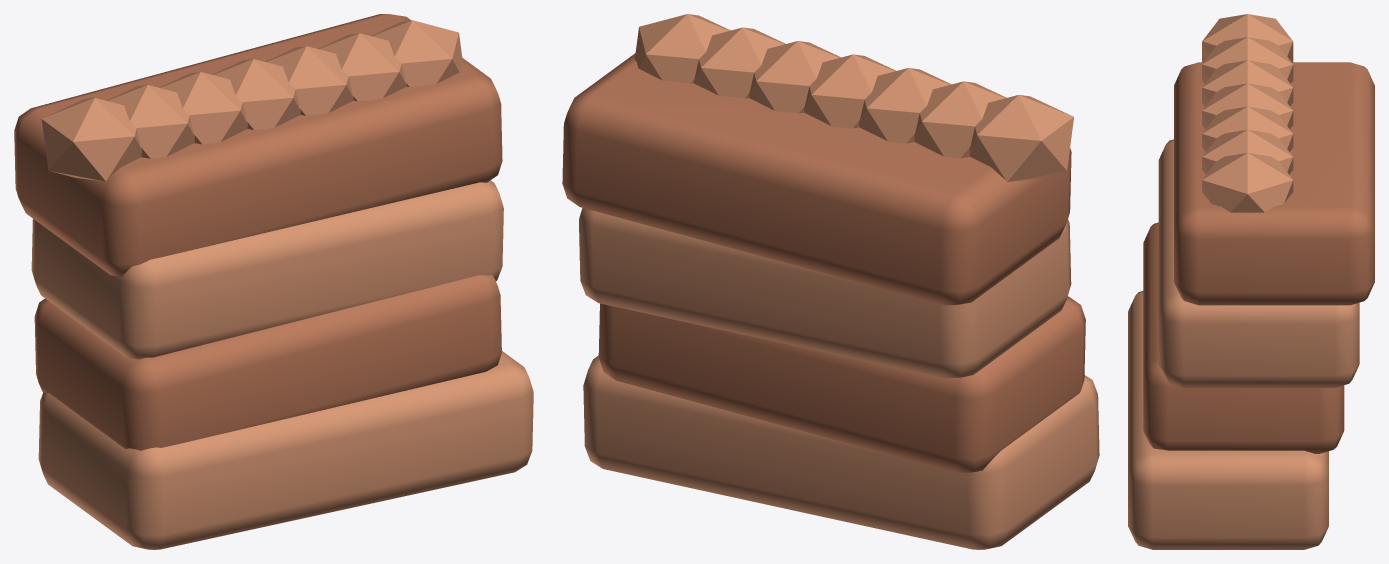
The model's file is Cliff_02.glb.
3 renders of one model, left to right at view 1: azimuth 30°, elevation 25°; view 2: azimuth 150°, elevation 25°; view 3: azimuth 270°, elevation 25°, orthographic. The views are drawn at different scales.
Parts seen in each view (by area): view 1: Sedimentary cliff layer.007, Sedimentary cliff layer.004, Sedimentary cliff layer.005, Sedimentary cliff layer.006, Cliff top rubble.007, Cliff top rubble.013, Cliff top rubble.008, Cliff top rubble.009, Cliff top rubble.010, Cliff top rubble.011, Cliff top rubble.012; view 2: Sedimentary cliff layer.007, Sedimentary cliff layer.004, Sedimentary cliff layer.005, Sedimentary cliff layer.006, Cliff top rubble.007, Cliff top rubble.013, Cliff top rubble.008, Cliff top rubble.009, Cliff top rubble.010, Cliff top rubble.011, Cliff top rubble.012; view 3: Sedimentary cliff layer.007, Sedimentary cliff layer.004, Sedimentary cliff layer.006, Sedimentary cliff layer.005, Cliff top rubble.013, Cliff top rubble.007, Cliff top rubble.008, Cliff top rubble.009, Cliff top rubble.010, Cliff top rubble.011, Cliff top rubble.012.
Boxes of the visible parts, bbox=[...] form: Sedimentary cliff layer.007: bbox=[14, 14, 502, 276]; Sedimentary cliff layer.004: bbox=[38, 351, 533, 549]; Sedimentary cliff layer.005: bbox=[34, 274, 501, 450]; Sedimentary cliff layer.006: bbox=[31, 180, 503, 359]; Cliff top rubble.007: bbox=[41, 97, 141, 181]; Cliff top rubble.013: bbox=[371, 20, 462, 86]; Cliff top rubble.008: bbox=[106, 85, 194, 158]; Cliff top rubble.009: bbox=[159, 72, 247, 144]; Cliff top rubble.010: bbox=[212, 59, 300, 129]; Cliff top rubble.011: bbox=[265, 46, 353, 115]; Cliff top rubble.012: bbox=[318, 33, 406, 101]; Sedimentary cliff layer.007: bbox=[562, 53, 1071, 305]; Sedimentary cliff layer.004: bbox=[583, 355, 1099, 549]; Sedimentary cliff layer.005: bbox=[598, 296, 1085, 472]; Sedimentary cliff layer.006: bbox=[579, 208, 1071, 378]; Cliff top rubble.007: bbox=[969, 95, 1073, 182]; Cliff top rubble.013: bbox=[634, 14, 730, 83]; Cliff top rubble.008: bbox=[914, 81, 1006, 158]; Cliff top rubble.009: bbox=[859, 68, 951, 143]; Cliff top rubble.010: bbox=[804, 54, 895, 128]; Cliff top rubble.011: bbox=[748, 41, 840, 113]; Cliff top rubble.012: bbox=[693, 27, 785, 98]; Sedimentary cliff layer.007: bbox=[1174, 62, 1374, 305]; Sedimentary cliff layer.004: bbox=[1128, 291, 1328, 549]; Sedimentary cliff layer.006: bbox=[1158, 139, 1359, 387]; Sedimentary cliff layer.005: bbox=[1143, 222, 1344, 453]; Cliff top rubble.013: bbox=[1202, 152, 1293, 212]; Cliff top rubble.007: bbox=[1202, 14, 1293, 62]; Cliff top rubble.008: bbox=[1202, 37, 1293, 83]; Cliff top rubble.009: bbox=[1202, 60, 1293, 106]; Cliff top rubble.010: bbox=[1202, 83, 1293, 128]; Cliff top rubble.011: bbox=[1202, 106, 1293, 151]; Cliff top rubble.012: bbox=[1202, 129, 1293, 174].
Bounding box in the file's own units: 2.32 × 2.18 × 1.29.
